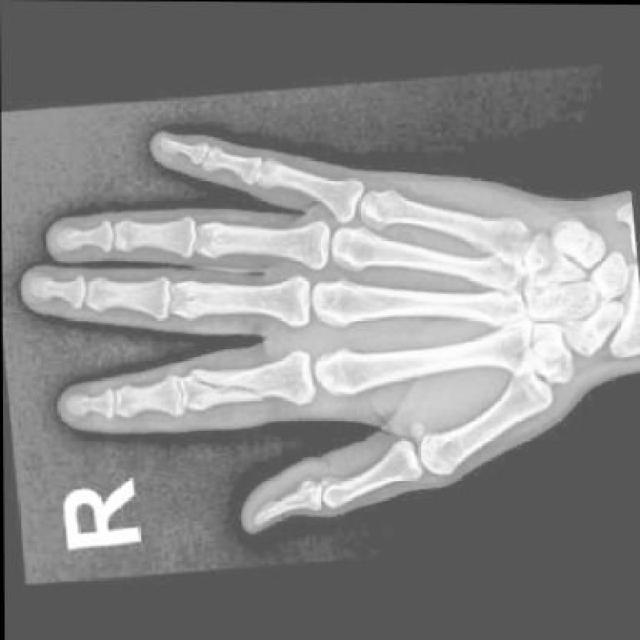Fracture: (188, 357, 298, 409)
